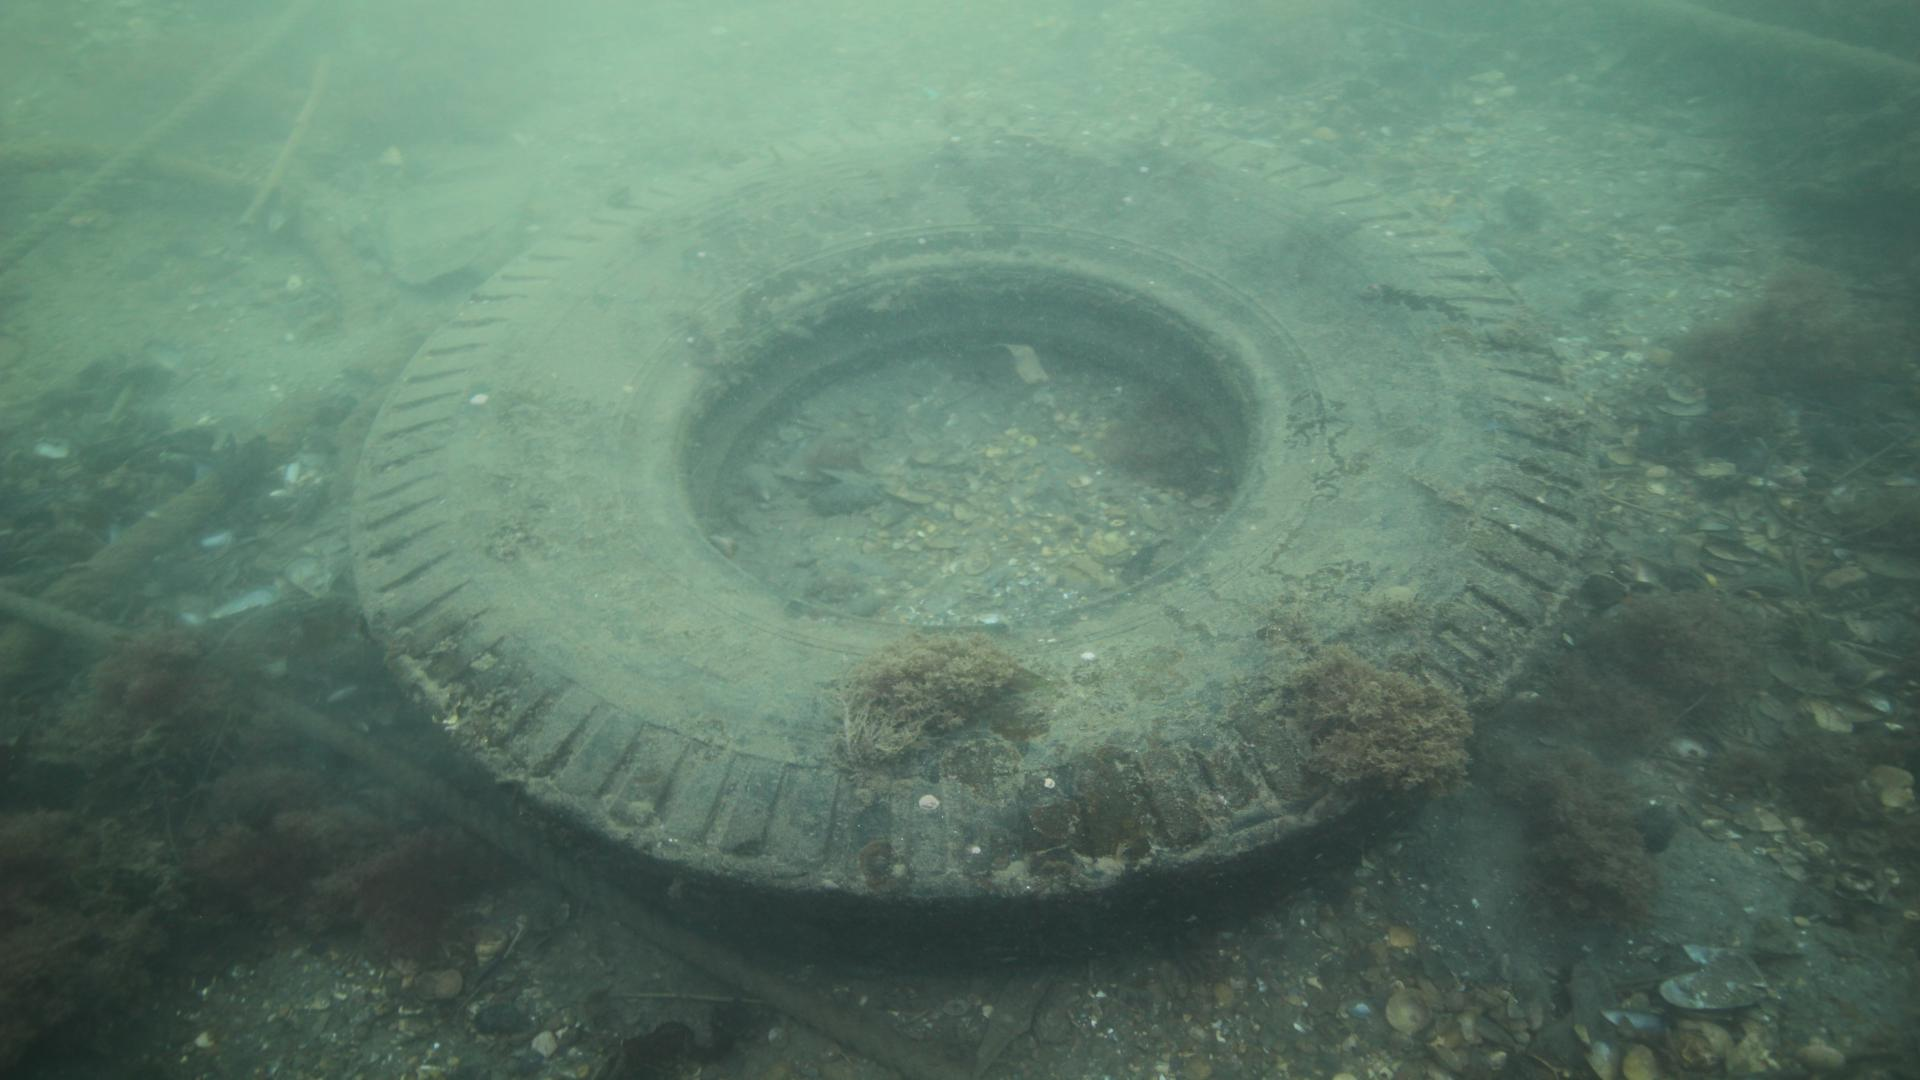rope: (0, 585, 968, 1080), (0, 5, 315, 278)
tire: (347, 116, 1589, 961)
